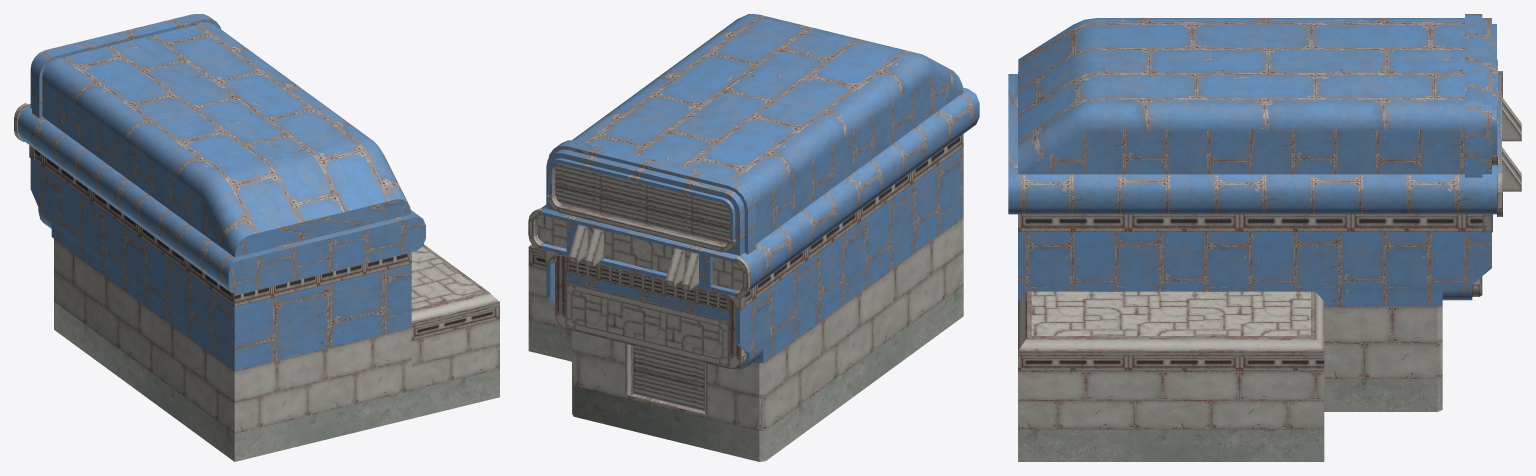
Rendered from Level_01_Backdrop_Building_B.fbx.
3 renders of one model, left to right at view 1: azimuth 30°, elevation 25°; view 2: azimuth 150°, elevation 25°; view 3: azimuth 270°, elevation 25°, orthographic. The views are drawn at different scales.
Visible parts, largest first — view 1: Geometry_Level_01_Backdrop_Building_B_Walls_B, Geometry_Level_01_Backdrop_Building_B_Walls_A, Geometry_Level_01_Backdrop_Building_B_Foundation_A, Geometry_Level_01_Backdrop_Building_B_Part_A, Geometry_Level_01_Backdrop_Building_B_Part_A_Elements; view 2: Geometry_Level_01_Backdrop_Building_B_Walls_B, Geometry_Level_01_Backdrop_Building_B_Part_A, Geometry_Level_01_Backdrop_Building_B_Walls_A, Geometry_Level_01_Backdrop_Building_B_Foundation_A, Geometry_Level_01_Backdrop_Building_B_Part_A_Elements; view 3: Geometry_Level_01_Backdrop_Building_B_Walls_B, Geometry_Level_01_Backdrop_Building_B_Walls_A, Geometry_Level_01_Backdrop_Building_B_Part_A, Geometry_Level_01_Backdrop_Building_B_Foundation_A, Geometry_Level_01_Backdrop_Building_B_Part_A_Elements.
Boxes of the visible parts, x1,y1,x2,y2 form: Geometry_Level_01_Backdrop_Building_B_Walls_B: (18,14,425,370); Geometry_Level_01_Backdrop_Building_B_Walls_A: (54,239,499,433); Geometry_Level_01_Backdrop_Building_B_Foundation_A: (54,301,499,461); Geometry_Level_01_Backdrop_Building_B_Part_A: (19,111,499,340); Geometry_Level_01_Backdrop_Building_B_Part_A_Elements: (14,103,499,327); Geometry_Level_01_Backdrop_Building_B_Walls_B: (534,14,979,369); Geometry_Level_01_Backdrop_Building_B_Part_A: (528,134,963,410); Geometry_Level_01_Backdrop_Building_B_Walls_A: (528,217,963,430); Geometry_Level_01_Backdrop_Building_B_Foundation_A: (528,285,963,461); Geometry_Level_01_Backdrop_Building_B_Part_A_Elements: (528,195,750,414); Geometry_Level_01_Backdrop_Building_B_Walls_B: (1008,14,1501,306); Geometry_Level_01_Backdrop_Building_B_Walls_A: (1018,306,1442,429); Geometry_Level_01_Backdrop_Building_B_Part_A: (1018,214,1489,370); Geometry_Level_01_Backdrop_Building_B_Foundation_A: (1018,377,1442,461); Geometry_Level_01_Backdrop_Building_B_Part_A_Elements: (1018,59,1521,356).
Bounding box in the file's own units: 3760 × 3397 × 5200.
